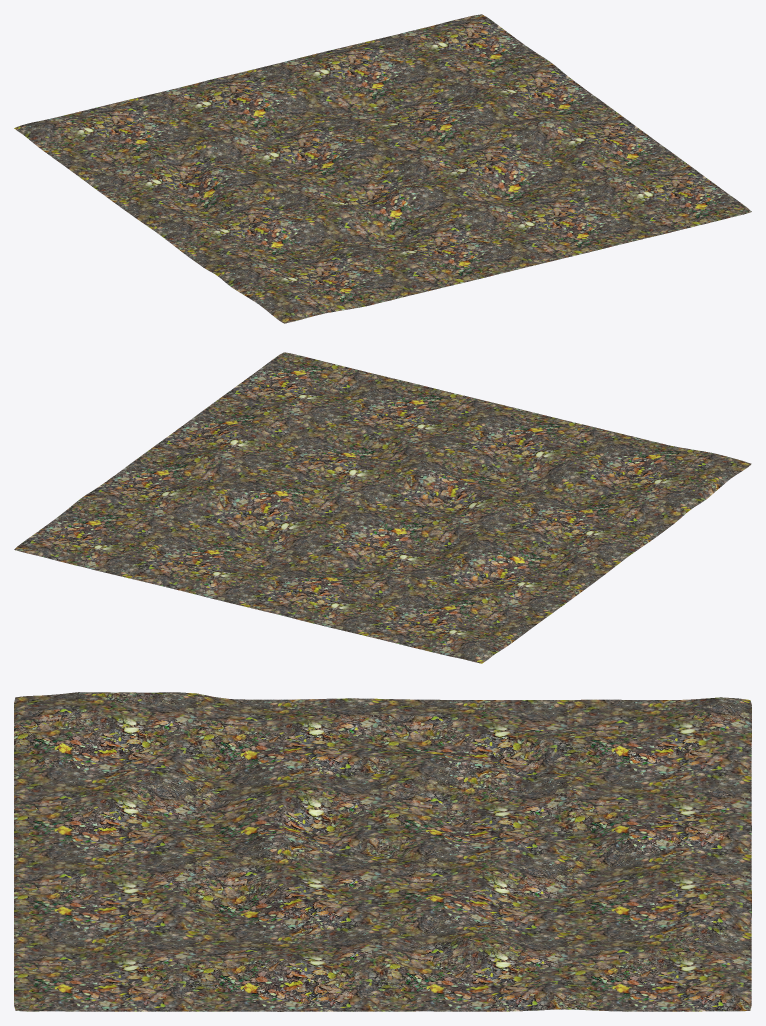
File: Ground.obj
3 views of the same model, one above another, from view 1: azimuth 30°, elevation 25°; view 2: azimuth 150°, elevation 25°; view 3: azimuth 270°, elevation 25° (orthographic). The views are drawn at different scales.
Parts seen in each view (by area): view 1: Plane; view 2: Plane; view 3: Plane.
Boxes of the visible parts, bbox=[...] form: Plane: bbox=[14, 14, 751, 323]; Plane: bbox=[14, 352, 751, 663]; Plane: bbox=[14, 692, 751, 1011].
Bounding box in the file's own units: 200 × 6.57 × 199.
1 material, 1 textured.
